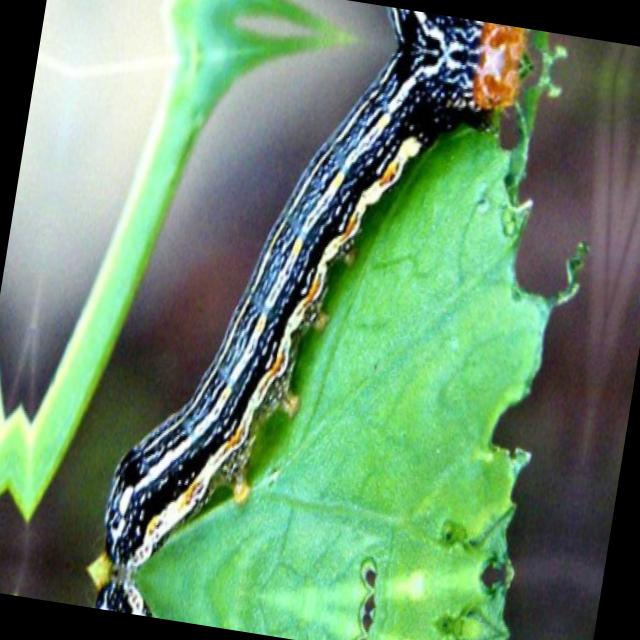Armyworm: (84, 1, 527, 616)
